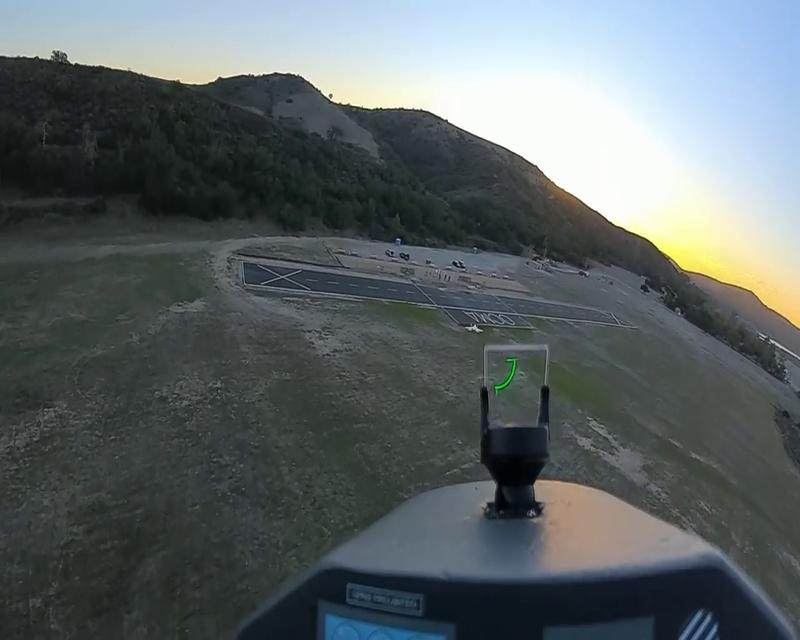UAV: (463, 321, 485, 334)
